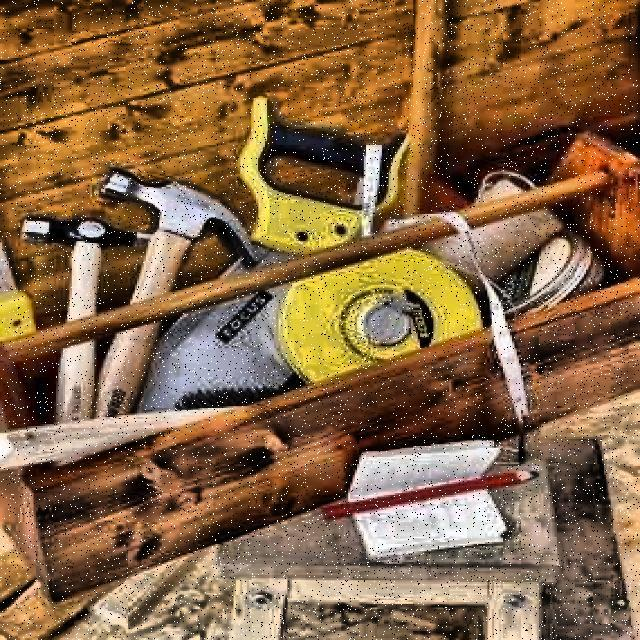hammer: (101, 169, 257, 421), (30, 207, 155, 429)
